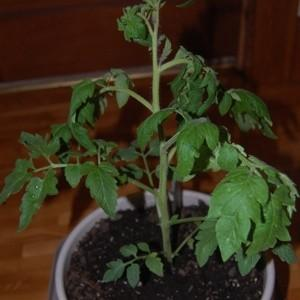Healthy: (207, 165, 269, 263), (85, 160, 119, 220)
